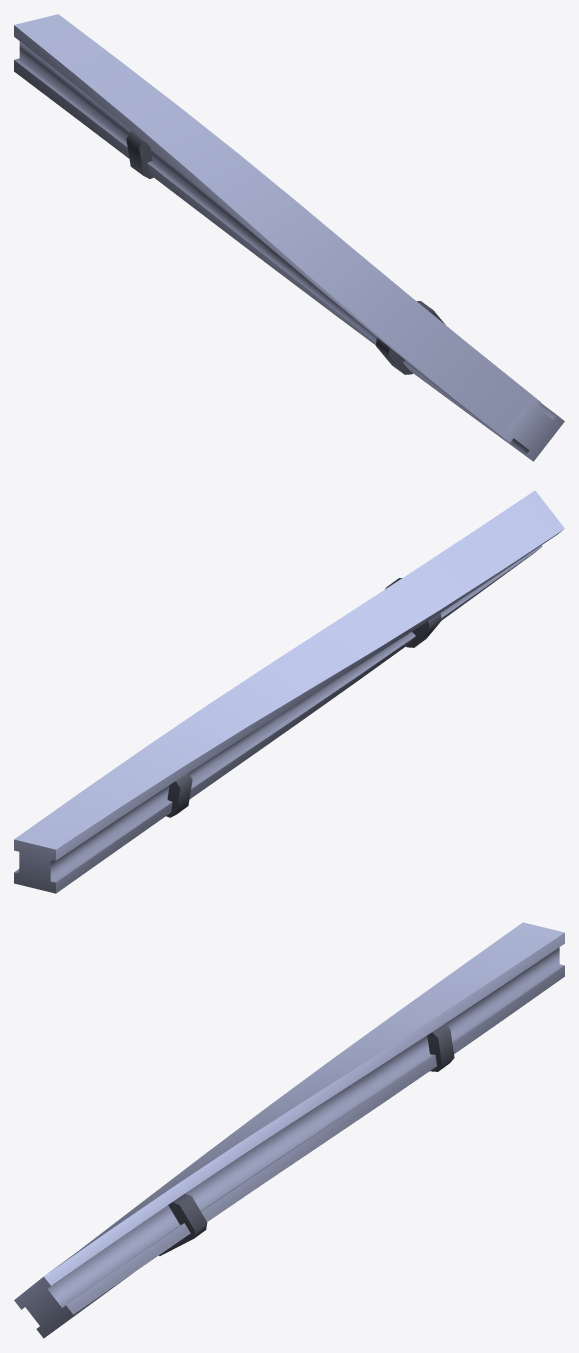
The model's file is coaster-monorail-straight-skew-right.glb.
3 renders of one model, top to bottom at view 1: azimuth 30°, elevation 25°; view 2: azimuth 150°, elevation 25°; view 3: azimuth 330°, elevation 25°, orthographic. The views are drawn at different scales.
Visible parts, largest first — view 1: coaster-monorail-straight-skew-right; view 2: coaster-monorail-straight-skew-right; view 3: coaster-monorail-straight-skew-right.
Part boxes in pixels (<box>): coaster-monorail-straight-skew-right: <box>14,14,564,461</box>; coaster-monorail-straight-skew-right: <box>14,490,564,893</box>; coaster-monorail-straight-skew-right: <box>14,922,564,1338</box>.
Size of the model in its own units: 1.01 by 0.9065 by 12.
1 material, 1 textured.
